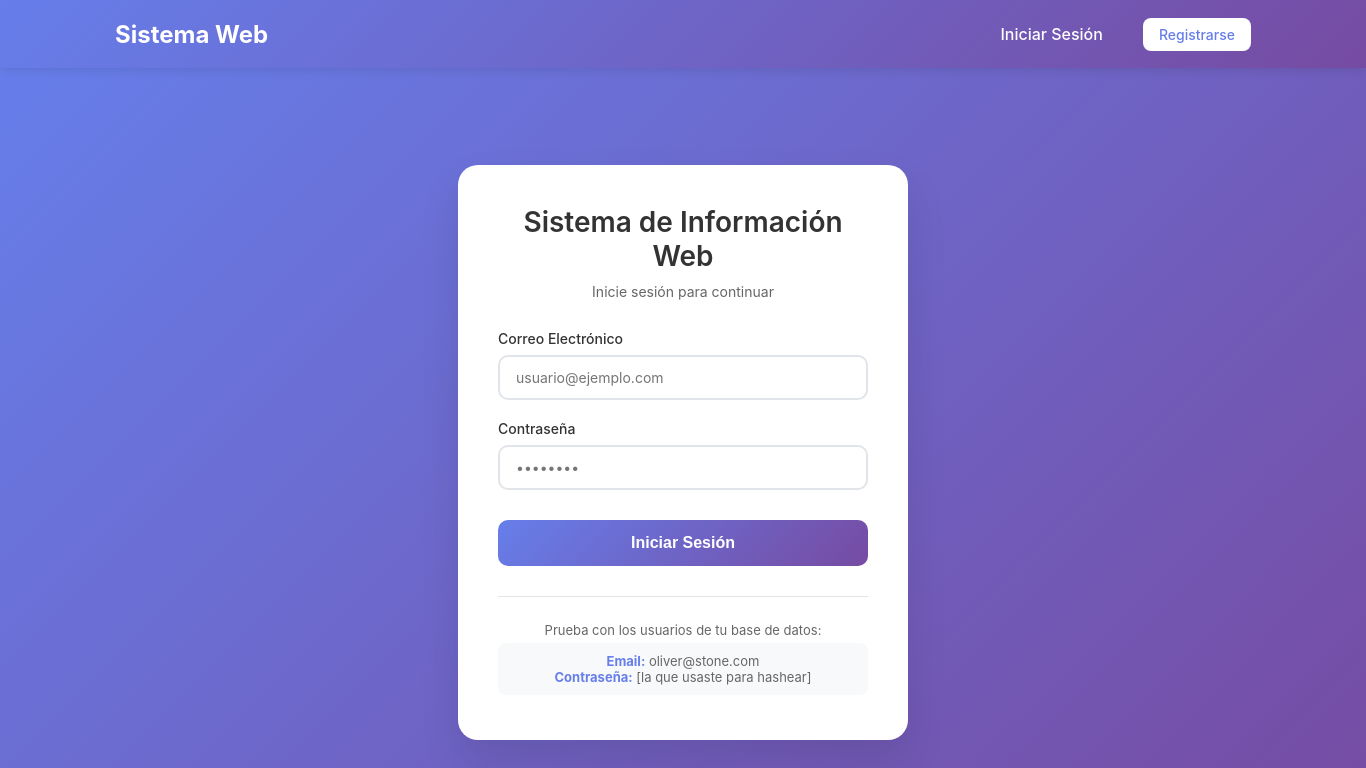
Test: Nivel 4: Pruebas de Sistema (E2E) - Flujos Completos › ST-05: Debe mostrar un mensaje de error si se intenta hacer login con campos vacíos
Step 1. Click the submit button → (683, 543), box [498,520,868,566]
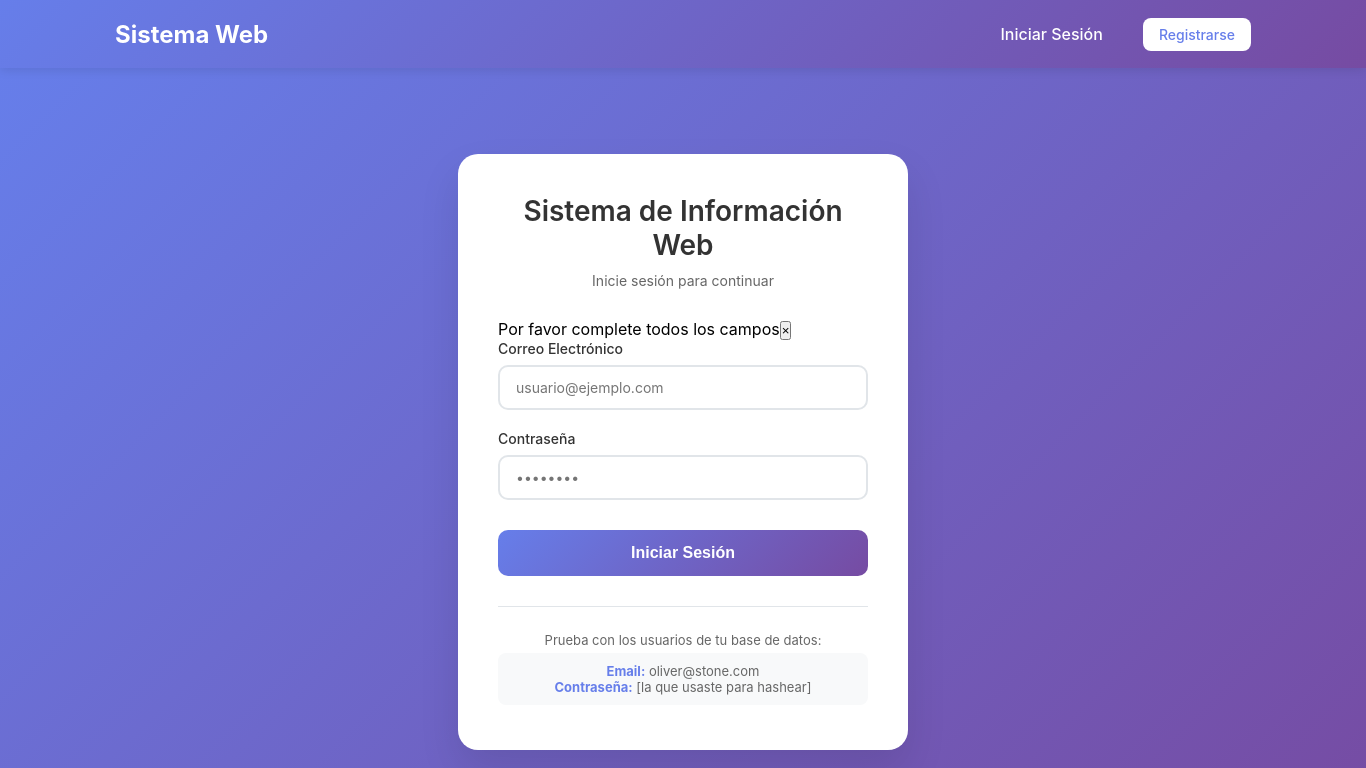
Expected: the text "Por favor complete todos los campos" is shown, [498,319,780,339]
